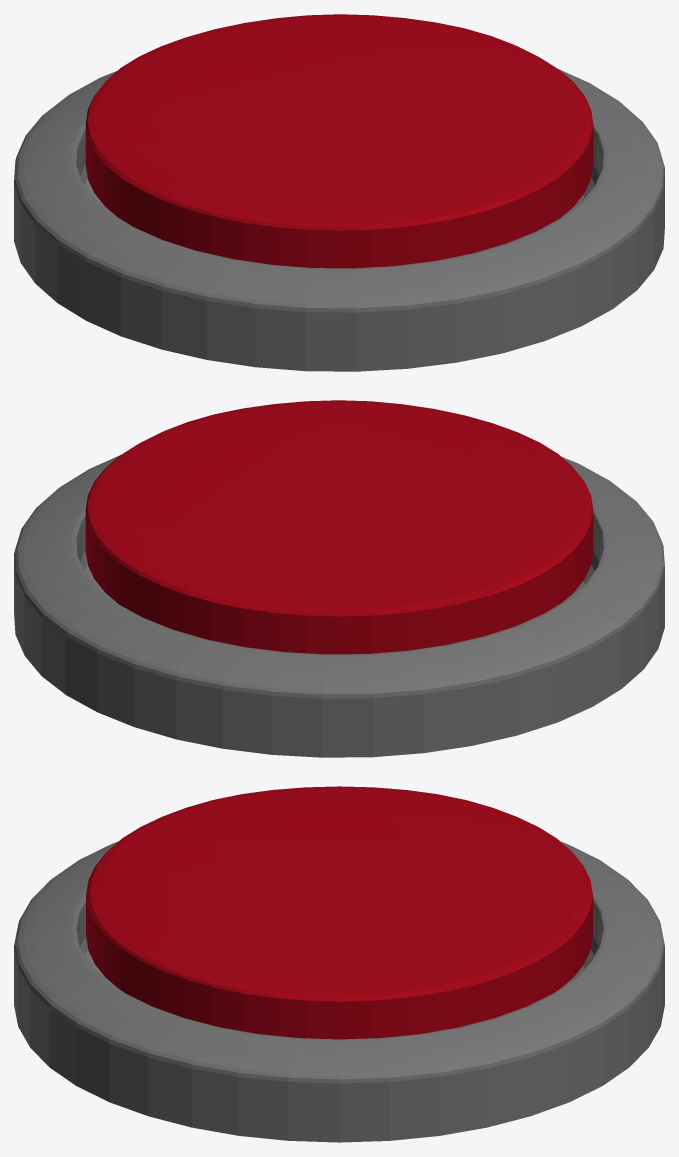
File: Boton con Base.fbx
3 renders of one model, top to bottom at view 1: azimuth 30°, elevation 25°; view 2: azimuth 150°, elevation 25°; view 3: azimuth 270°, elevation 25°, orthographic.
Parts seen in each view (by area): view 1: Boton 1, Boton 1 Base; view 2: Boton 1, Boton 1 Base; view 3: Boton 1, Boton 1 Base.
Part boxes in pixels (x1,y1,x2,y2): Boton 1: (85, 14, 593, 268); Boton 1 Base: (14, 69, 664, 371); Boton 1: (85, 400, 593, 654); Boton 1 Base: (14, 455, 664, 757); Boton 1: (86, 786, 592, 1039); Boton 1 Base: (14, 841, 664, 1142).
Bounding box in the file's own units: 98.42 × 19.32 × 98.48.
